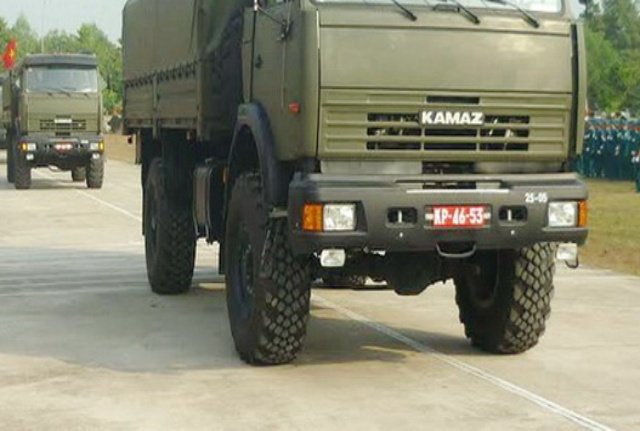plate: (428, 202, 488, 231)
